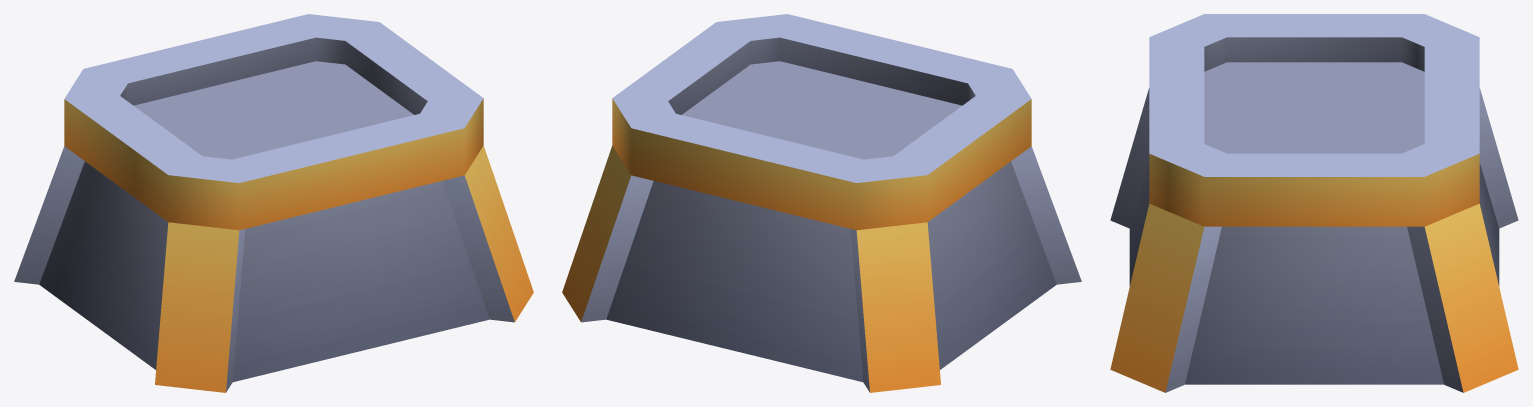
File: kenney-space-station-table-inset-small.glb
3 views of the same model, side by side, from view 1: azimuth 30°, elevation 25°; view 2: azimuth 150°, elevation 25°; view 3: azimuth 270°, elevation 25° (orthographic). The views are drawn at different scales.
Parts seen in each view (by area): view 1: table-inset-small; view 2: table-inset-small; view 3: table-inset-small.
Part boxes in pixels (<box>): table-inset-small: <box>14,14,533,392</box>; table-inset-small: <box>562,14,1081,392</box>; table-inset-small: <box>1110,14,1518,392</box>.
Size of the model in its own units: 0.8414 by 0.4 by 0.7415.
Materials: 1 (1 with a texture image).
